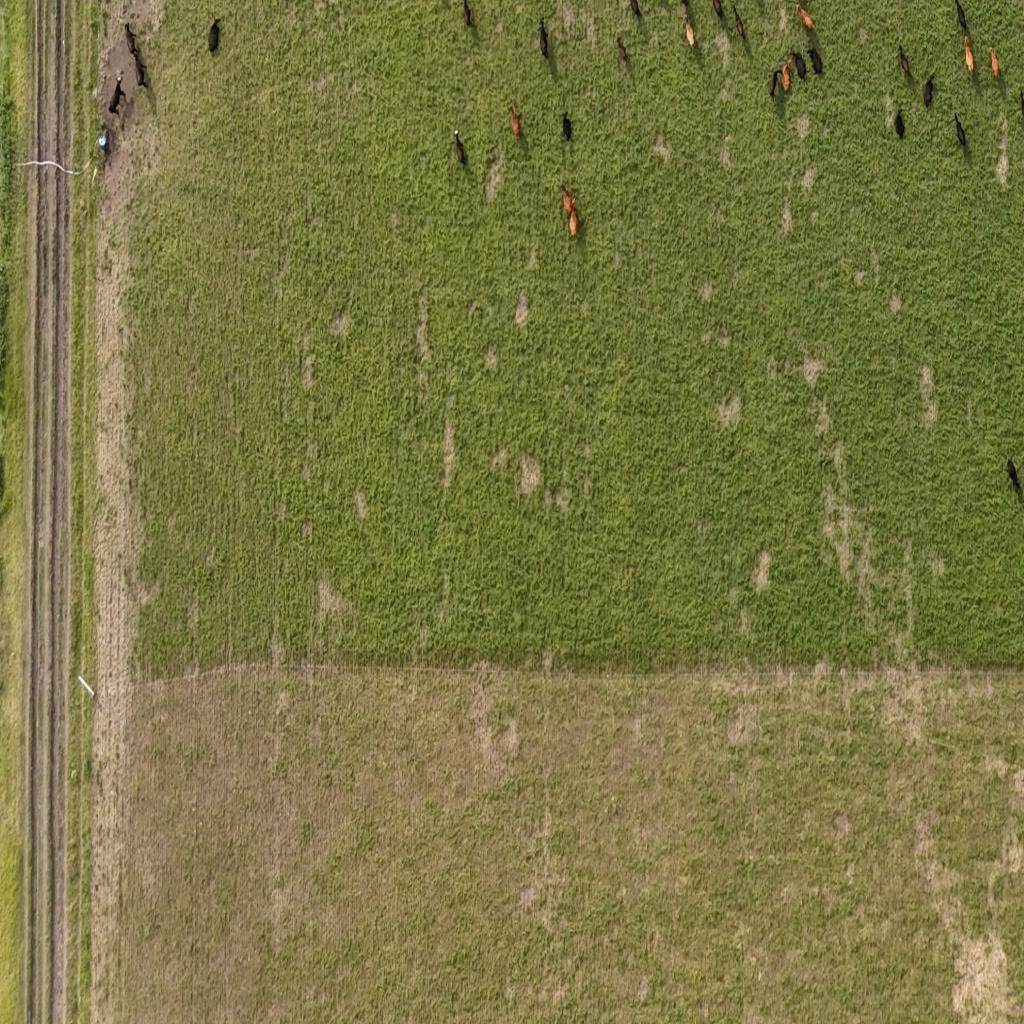cow: (121, 22, 147, 94), (562, 193, 580, 239), (1004, 454, 1022, 497), (508, 98, 526, 140), (108, 75, 126, 115), (538, 14, 551, 64), (954, 111, 969, 150), (558, 100, 572, 140), (923, 67, 936, 109), (796, 3, 815, 31), (454, 128, 468, 166), (560, 182, 575, 216), (792, 49, 806, 80), (809, 45, 823, 76), (208, 18, 220, 54), (733, 4, 745, 39), (964, 36, 975, 74), (954, 0, 967, 32), (899, 44, 911, 78), (780, 58, 791, 93), (989, 46, 1000, 80), (124, 21, 136, 51), (895, 106, 905, 140), (617, 35, 629, 63), (769, 69, 780, 99), (462, 0, 473, 28), (685, 18, 695, 48), (628, 0, 642, 19), (711, 0, 723, 21), (1020, 89, 1024, 122)
